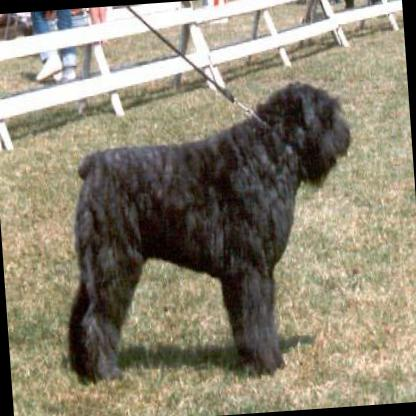Bouvier_des_Flandres: (50, 75, 366, 389)
